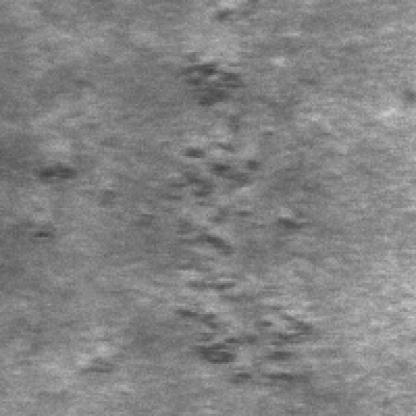rolled-in_scale: (27, 133, 316, 254), (75, 258, 310, 387), (172, 48, 245, 127)
